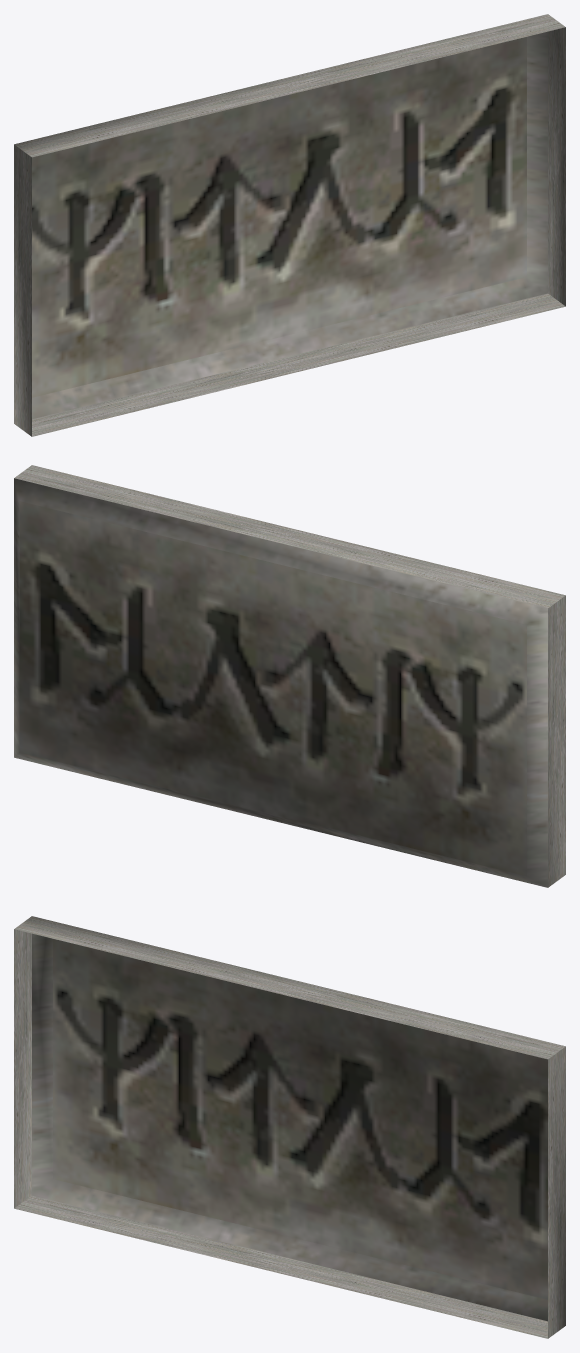
The model's file is DWARF_PALACE_MAINHALL_S_PLAQUE_THORIN.fbx.
3 views of the same model, one above another, from view 1: azimuth 30°, elevation 25°; view 2: azimuth 150°, elevation 25°; view 3: azimuth 330°, elevation 25° (orthographic).
Visible parts, largest first — view 1: DWARF_PALACE_MAINHALL_S_PLAQUE_THORIN; view 2: DWARF_PALACE_MAINHALL_S_PLAQUE_THORIN; view 3: DWARF_PALACE_MAINHALL_S_PLAQUE_THORIN.
Part boxes in pixels (box(x1,y1,x2,y2)): DWARF_PALACE_MAINHALL_S_PLAQUE_THORIN: box(14, 14, 565, 436); DWARF_PALACE_MAINHALL_S_PLAQUE_THORIN: box(14, 465, 565, 887); DWARF_PALACE_MAINHALL_S_PLAQUE_THORIN: box(14, 916, 565, 1338).
Bounding box in the file's own units: 12000 × 6000 × 1000.
Materials: 2 (2 with a texture image).
